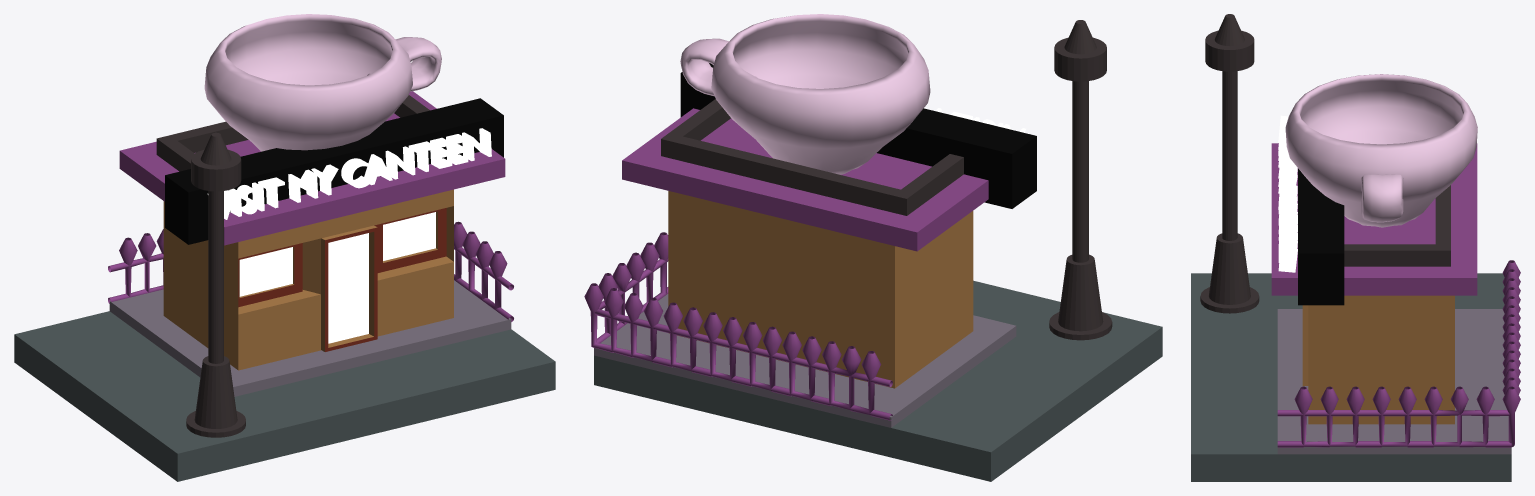
Rendered from canteenShop.gltf.
The picture shows the model from 3 angles, left to right: view 1: azimuth 30°, elevation 25°; view 2: azimuth 150°, elevation 25°; view 3: azimuth 270°, elevation 25°; orthographic projection. The views are drawn at different scales.
Visible parts, largest first — view 1: Plane, Plane.003, Circle, Cube, Plane.002, Plane.004, Plane.008, Text, Plane.007, Plane.006, Circle.001; view 2: Plane.003, Plane, Circle, Plane.004, Plane.007, Plane.002, Plane.006, Plane.008, Cube, Circle.001; view 3: Plane, Circle, Plane.003, Plane.002, Plane.004, Plane.007, Plane.008, Cube, Plane.006, Text, Circle.001.
Part boxes in pixels (x1,y1,x2,y2): Plane: (14,311,555,481); Plane.003: (163,189,453,370); Circle: (204,14,412,151); Cube: (165,98,503,244); Plane.002: (109,280,511,396); Plane.004: (119,91,505,245); Plane.008: (186,132,245,437); Text: (207,128,491,219); Plane.007: (108,221,513,321); Plane.006: (156,95,429,171); Circle.001: (367,37,441,91); Plane.003: (668,191,973,388); Plane: (594,280,1162,481); Circle: (711,14,930,174); Plane.004: (622,108,988,251); Plane.007: (584,232,892,420); Plane.002: (594,294,1016,427); Plane.006: (661,99,963,215); Plane.008: (1049,20,1112,340); Cube: (680,63,1036,208); Circle.001: (680,38,757,96); Plane: (1191,273,1511,481); Circle: (1285,74,1477,227); Plane.003: (1302,295,1454,424); Plane.002: (1277,309,1511,454); Plane.004: (1271,143,1477,295); Plane.007: (1277,260,1520,447); Plane.008: (1200,14,1259,313); Cube: (1298,168,1344,305); Plane.006: (1344,185,1450,266); Text: (1278,115,1297,272); Circle.001: (1361,174,1403,222).
Bounding box in the file's own units: 8.3 × 6.55 × 6.26.
